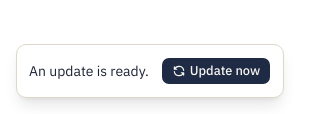
Test: offers a retry when activating the update fails
Later steps or results of the test are not shown.
Click the button "Update now".
click(216, 71)  # box [161,57,271,85]
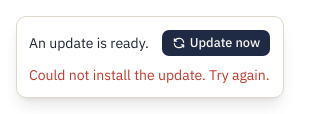
Check: the message "Could not install the update. Try again." is shown, box [29,65,271,85]
